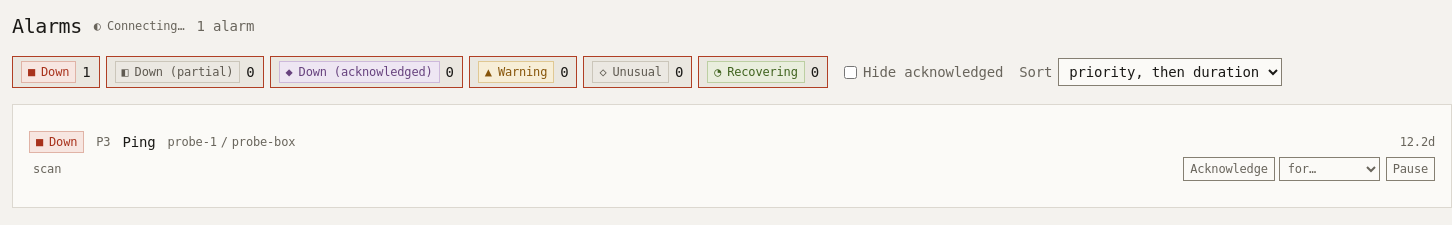
it: a caller that keeps its last answer in sight › still shows the alarm list it had, dimmed, while a changed filter is read
Expected: the link "Ping" is shown, x1=122 y1=132 x2=155 y2=152
Select "duration" in the dropdown showing "priority, then duration" at (1170, 72), box x1=1058 y1=58 x2=1282 y2=86
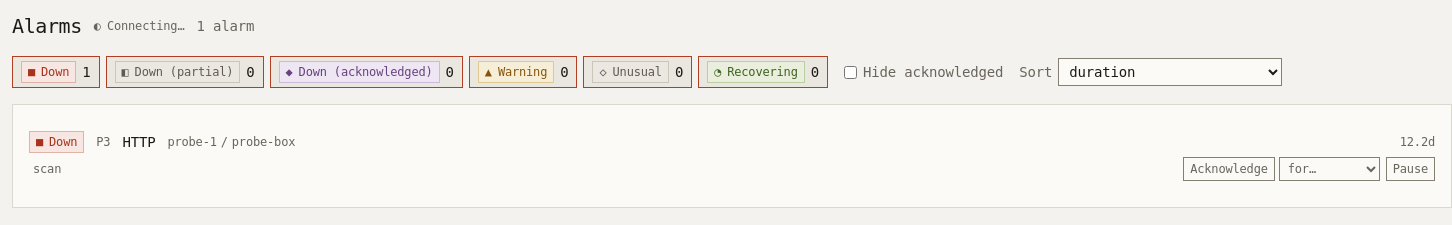
Expected: the link "HTTP" is shown, x1=122 y1=132 x2=155 y2=152
Expected: the link "Ping" is gone
